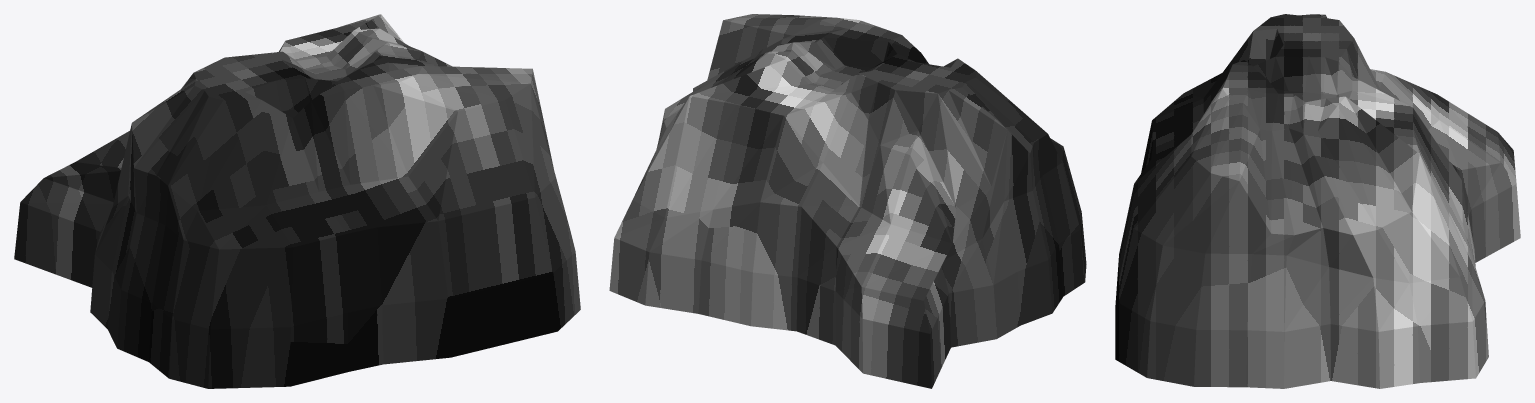
File: rock_341x03.gltf
The picture shows the model from 3 angles, left to right: view 1: azimuth 30°, elevation 25°; view 2: azimuth 150°, elevation 25°; view 3: azimuth 270°, elevation 25°; orthographic projection. The views are drawn at different scales.
Parts seen in each view (by area): view 1: Rock_341x3; view 2: Rock_341x3; view 3: Rock_341x3.
Part boxes in pixels (x1,y1,x2,y2): Rock_341x3: [14, 14, 580, 388]; Rock_341x3: [609, 14, 1086, 388]; Rock_341x3: [1115, 14, 1520, 388].
Size of the model in its own units: 2.02 by 1.1 by 1.8.
Materials: 1 (1 with a texture image).
